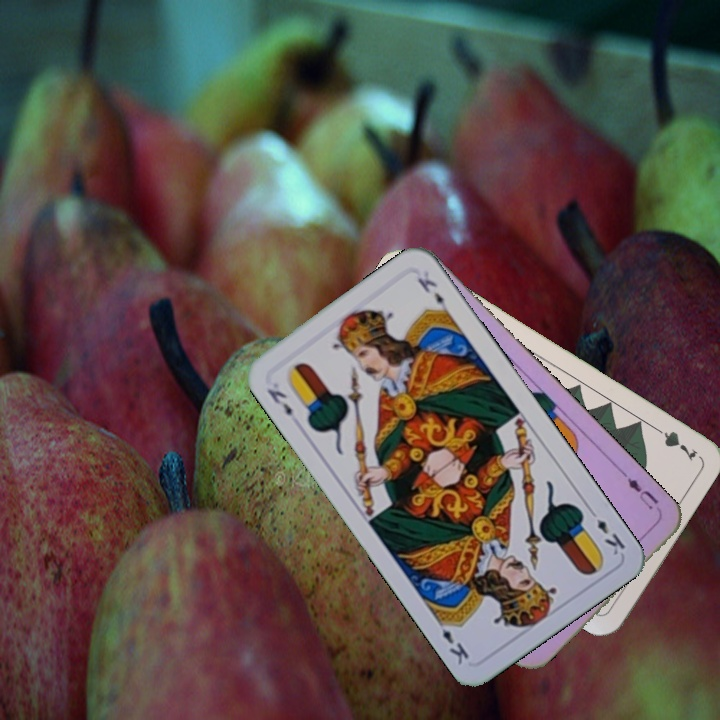EK: (584, 504, 628, 558), (262, 384, 295, 419)
EU: (620, 469, 665, 518)
G7: (648, 421, 700, 464)
